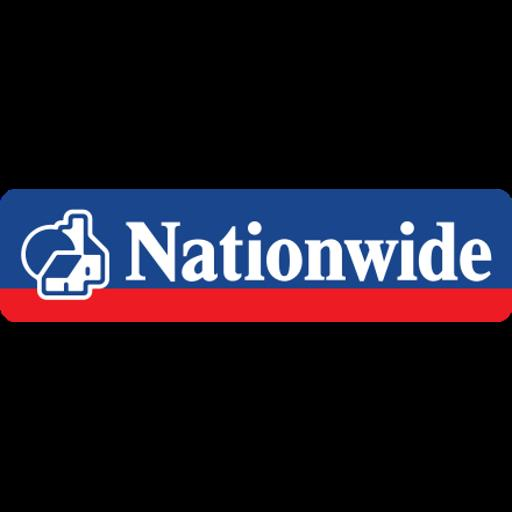Nationwide Building Society: (0, 189, 512, 322)
